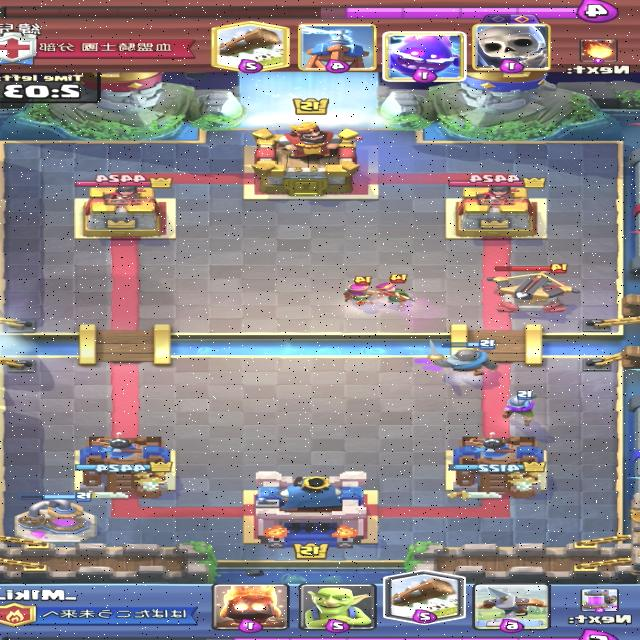Enemy-Archer: (340, 274, 386, 308), (377, 272, 415, 309)
Enemy-XBow: (483, 264, 580, 314)
Player-ElixirPump: (12, 491, 98, 544)
Player-Knight: (420, 338, 506, 376)
Player-Musketeer: (502, 390, 542, 426)
